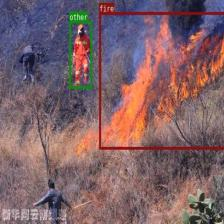fire: (98, 11, 224, 148)
